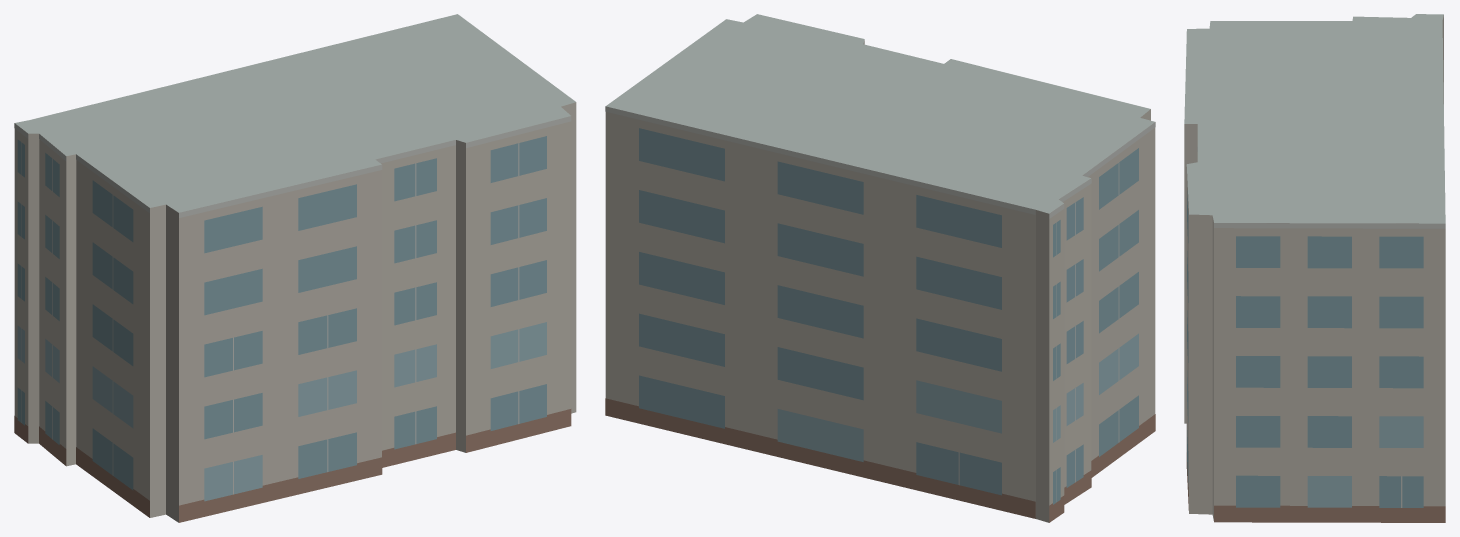
Rendered from survey-upis-32745600.glb.
The picture shows the model from 3 angles, left to right: view 1: azimuth 30°, elevation 25°; view 2: azimuth 150°, elevation 25°; view 3: azimuth 270°, elevation 25°; orthographic projection. The views are drawn at different scales.
Parts seen in each view (by area): view 1: survey-upis-32745600.tmp; view 2: survey-upis-32745600.tmp; view 3: survey-upis-32745600.tmp.
Part boxes in pixels (<box>): survey-upis-32745600.tmp: <box>14,14,576,522</box>; survey-upis-32745600.tmp: <box>605,14,1155,522</box>; survey-upis-32745600.tmp: <box>1184,14,1445,522</box>.
Bounding box in the file's own units: 21.22 × 14.13 × 11.19.
